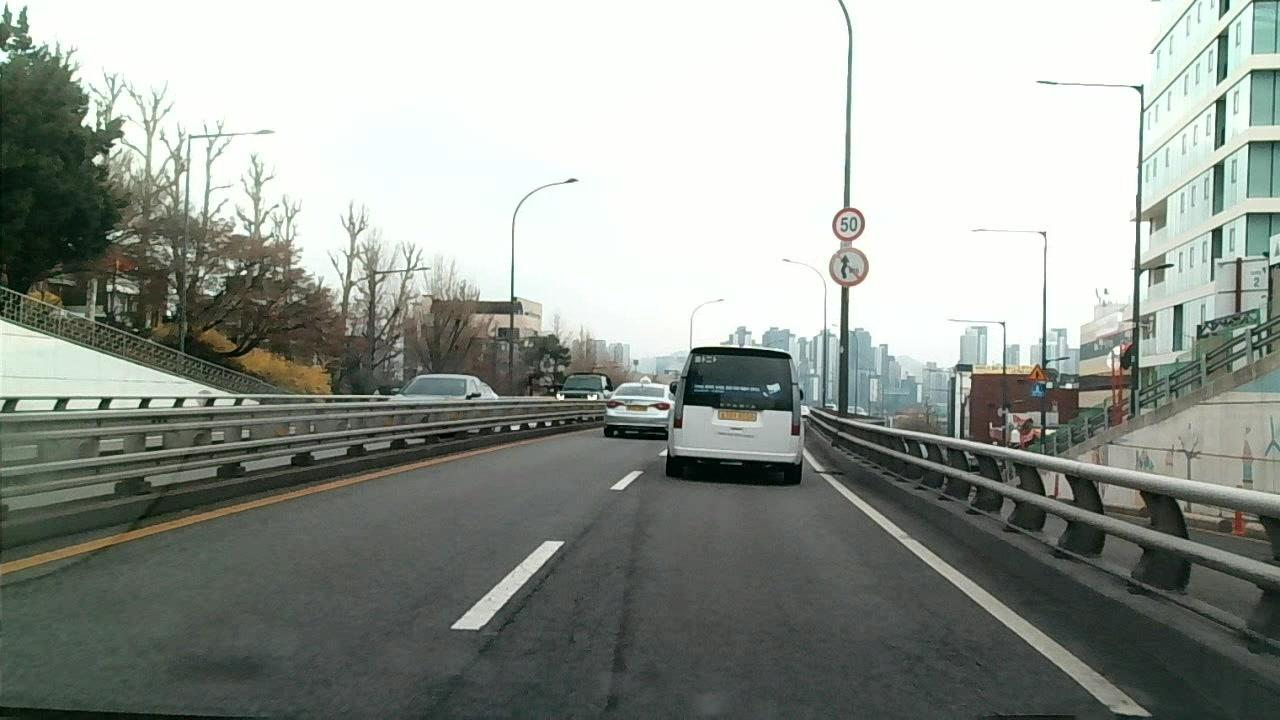vcrack: (427, 539, 577, 720)
